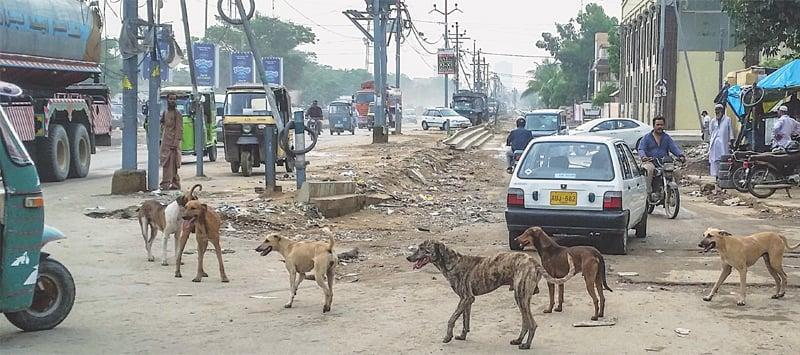normal_dogs: (401, 238, 542, 343), (516, 219, 613, 320), (254, 222, 354, 318), (694, 221, 795, 309), (178, 187, 232, 285), (132, 194, 196, 267)
